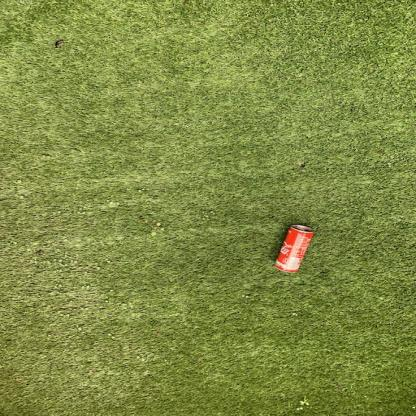trash: (270, 224, 312, 276)
